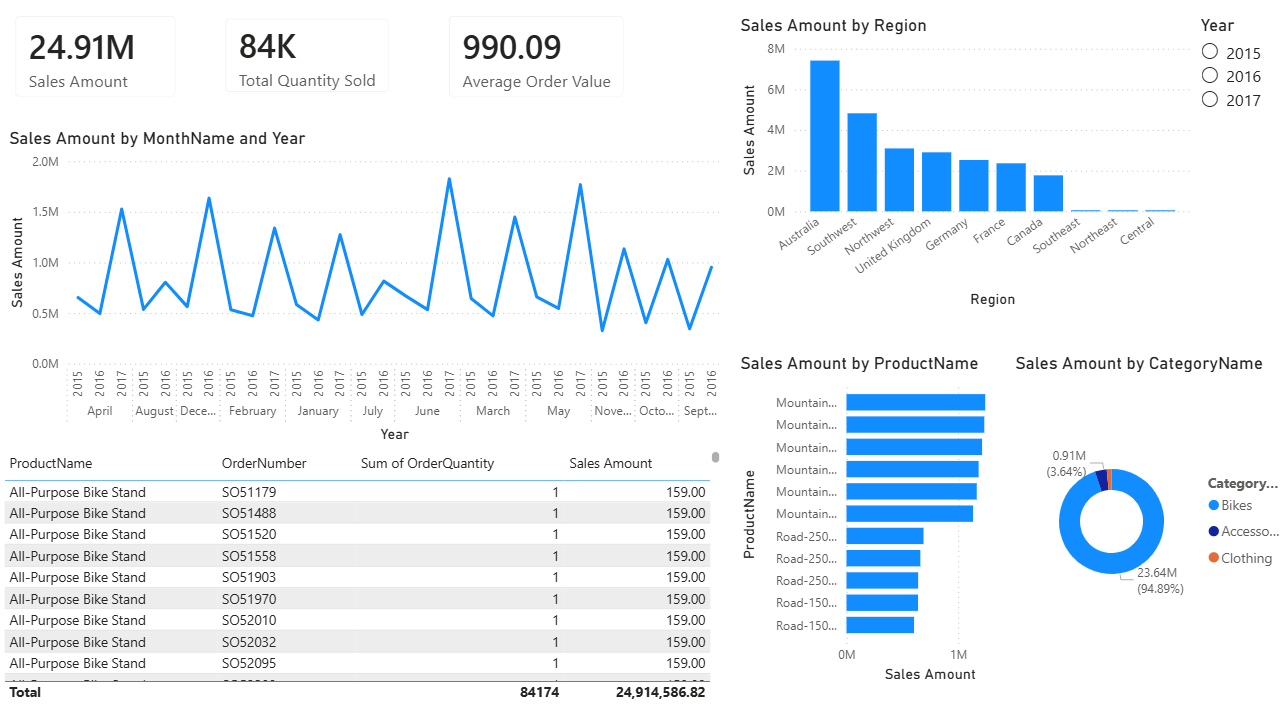

The dashboard page shown, as its layout file describes it:
{"tool":"powerbi","page":{"name":"Sales Dashboard","canvas":[1280,720],"ordinal":1},"visuals":[{"type":"cardVisual","fields":{"Data":["FactSales.Sales Amount"]},"box":[9.8,13.5,192,113.7],"z":0},{"type":"cardVisual","fields":{"Data":["FactSales.Total Quantity Sold"]},"box":[215.2,15.9,194.4,106.4],"z":1000},{"type":"cardVisual","fields":{"Data":["FactSales.Average Order Value"]},"box":[434.1,13.5,205.4,113.7],"z":2000},{"type":"lineChart","fields":{"Category":["DimDate.MonthName","DimDate.Year"],"Y":["FactSales.Sales Amount"]},"box":[15.9,139.4,705.6,313],"z":3000},{"type":"clusteredBarChart","fields":{"Category":["DimProduct.ProductName"],"Y":["FactSales.Sales Amount"]},"box":[731.3,359.5,294.7,327.7],"z":4000},{"type":"donutChart","fields":{"Category":["DimProduct.CategoryName"],"Y":["FactSales.Sales Amount"]},"box":[1000.3,359.5,280,311.8],"z":5000},{"type":"clusteredColumnChart","fields":{"Category":["DimTerritory.Region"],"Y":["FactSales.Sales Amount"]},"box":[731.3,29.3,450,291],"z":6000},{"type":"tableEx","fields":{"Values":["DimProduct.ProductName","FactSales.OrderNumber","Sum(FactSales.OrderQuantity)","FactSales.Sales Amount"]},"box":[9.8,451.2,711.7,255.6],"z":7000},{"type":"listSlicer","fields":{"Values":["DimDate.Year"]},"box":[1181.3,29.3,99,220.1],"z":8000}]}

Visuals, with their boxes in screenshot pixels (x1, y1, x2, y2), scaled from the page's 1280x720 canvas onto the 1288x714 screenshot:
cardVisual - FactSales.Sales Amount: bbox=[10, 13, 203, 126]
cardVisual - FactSales.Total Quantity Sold: bbox=[217, 16, 412, 121]
cardVisual - FactSales.Average Order Value: bbox=[437, 13, 643, 126]
lineChart - DimDate.MonthName x DimDate.Year: bbox=[16, 138, 726, 449]
clusteredBarChart - DimProduct.ProductName x FactSales.Sales Amount: bbox=[736, 357, 1032, 681]
donutChart - DimProduct.CategoryName x FactSales.Sales Amount: bbox=[1007, 357, 1287, 666]
clusteredColumnChart - DimTerritory.Region x FactSales.Sales Amount: bbox=[736, 29, 1189, 318]
tableEx - DimProduct.ProductName x FactSales.OrderNumber: bbox=[10, 447, 726, 701]
listSlicer - DimDate.Year: bbox=[1189, 29, 1287, 247]
